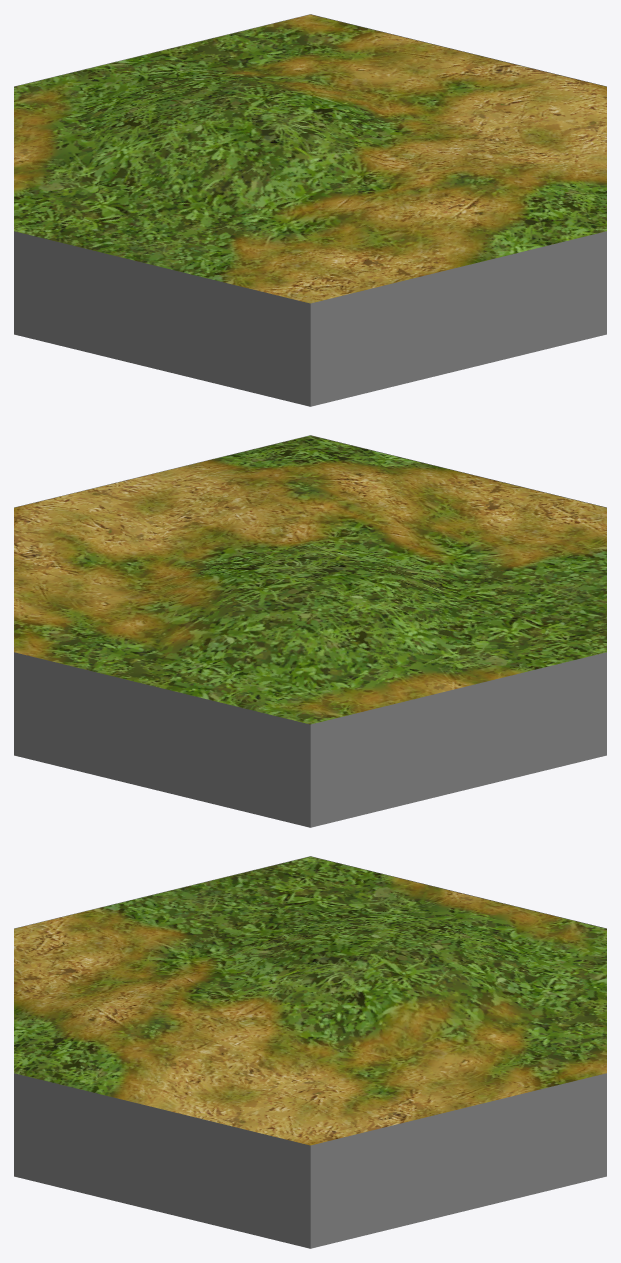
File: tile_grass_no_detail.FBX
The picture shows the model from 3 angles, top to bottom: view 1: azimuth 30°, elevation 25°; view 2: azimuth 150°, elevation 25°; view 3: azimuth 270°, elevation 25°; orthographic projection.
Visible parts, largest first — view 1: Object002, Object001; view 2: Object002, Object001; view 3: Object002, Object001.
Part boxes in pixels (left/top/right/bottom): Object002: left=14, top=14, right=606, bottom=303; Object001: left=14, top=14, right=606, bottom=406; Object002: left=14, top=435, right=606, bottom=724; Object001: left=14, top=435, right=606, bottom=827; Object002: left=14, top=856, right=606, bottom=1145; Object001: left=14, top=856, right=606, bottom=1248.
Size of the model in its own units: 180 by 38.99 by 156.
